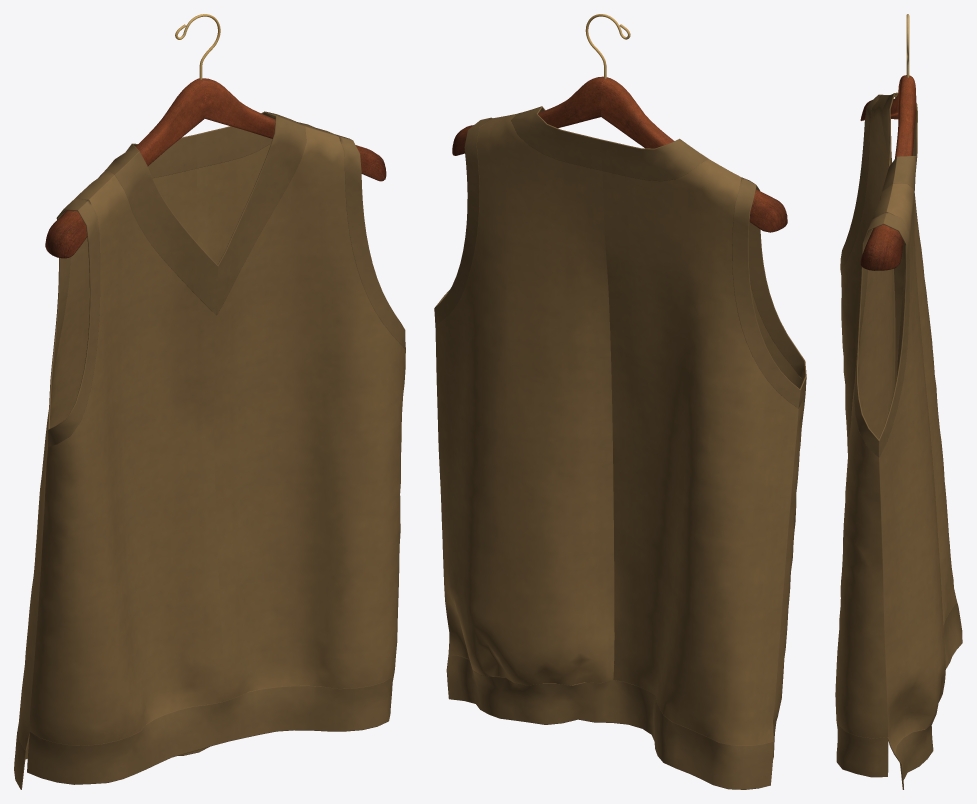
Rendered from FLG_13_09_3.fbx.
3 renders of one model, left to right at view 1: azimuth 30°, elevation 25°; view 2: azimuth 150°, elevation 25°; view 3: azimuth 270°, elevation 25°, orthographic. The views are drawn at different scales.
Parts seen in each view (by area): view 1: FLG_13_09_3, Obj_Avatar_Shape; view 2: FLG_13_09_3, Obj_Avatar_Shape; view 3: FLG_13_09_3, Obj_Avatar_Shape.
Boxes of the visible parts, <box> form: FLG_13_09_3: <box>14,111,405,789</box>; Obj_Avatar_Shape: <box>45,14,386,258</box>; FLG_13_09_3: <box>434,106,806,789</box>; Obj_Avatar_Shape: <box>452,14,787,232</box>; FLG_13_09_3: <box>835,92,962,789</box>; Obj_Avatar_Shape: <box>860,14,916,270</box>.
Bounding box in the file's own units: 47.28 × 91.32 × 15.05.
